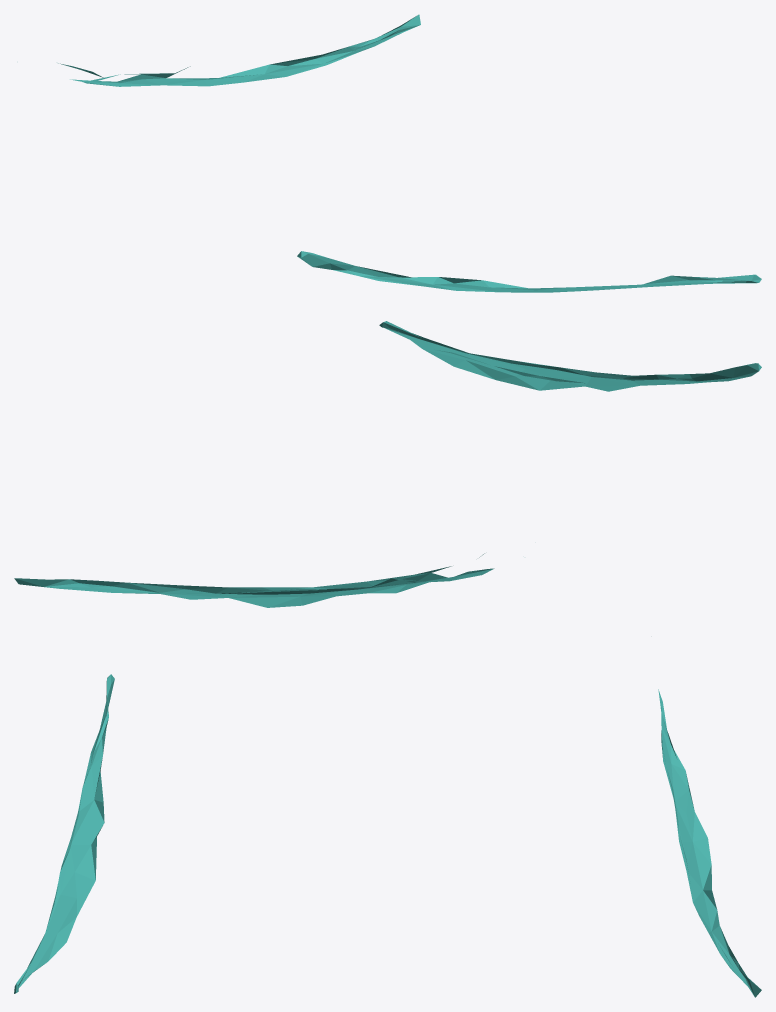
3 renders of one model, top to bottom at view 1: azimuth 30°, elevation 25°; view 2: azimuth 150°, elevation 25°; view 3: azimuth 270°, elevation 25°, orthographic. The views are drawn at different scales.
Visible parts, largest first — view 1: 330.obj; view 2: 330.obj; view 3: 330.obj.
Boxes of the visible parts, left/top/right/bottom form: 330.obj: left=58, top=14, right=761, bottom=292; 330.obj: left=14, top=321, right=761, bottom=607; 330.obj: left=14, top=674, right=761, bottom=997.
Size of the model in its own units: 1597 by 399 by 2119.
